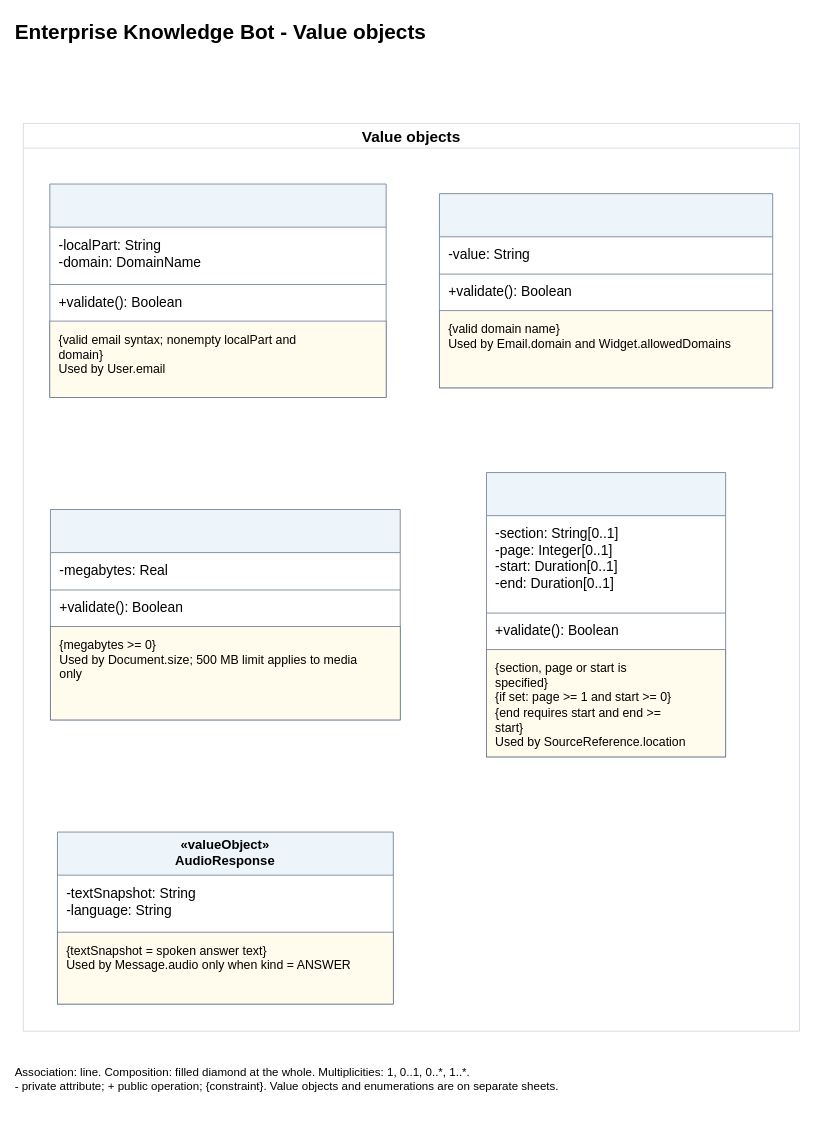
The diagram is 822 pixels wide and 1123 high, and some of its shapes have lost their labels. Each missing label, with the box of its shape:
«valueObject» DomainName: (439, 193, 773, 388)
«valueObject» Email: (49, 183, 386, 397)
«valueObject» FileSize: (50, 509, 400, 720)
«valueObject» SourceLocation: (486, 472, 726, 757)
